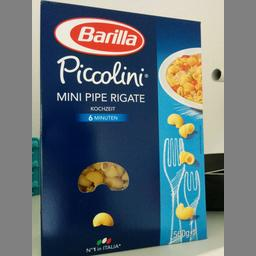pasta: (39, 0, 208, 254)
